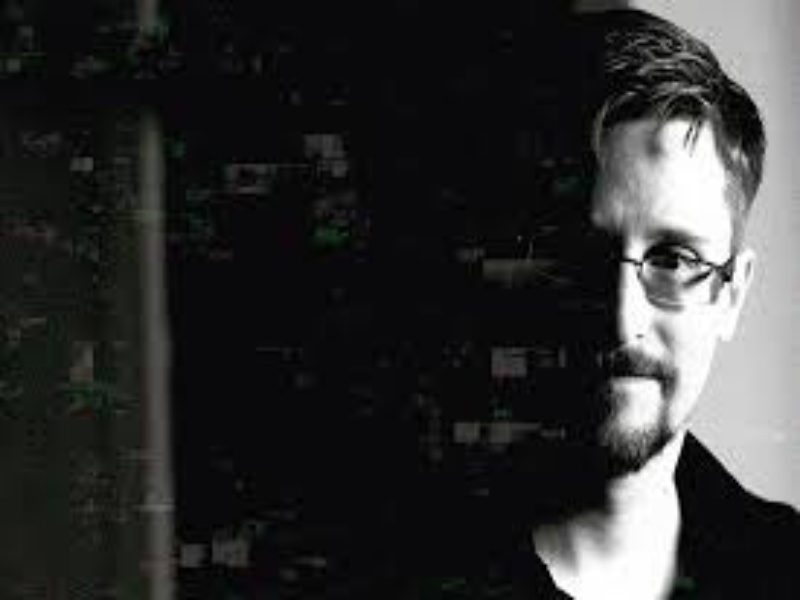TsisyArotava: (575, 116, 741, 482)
